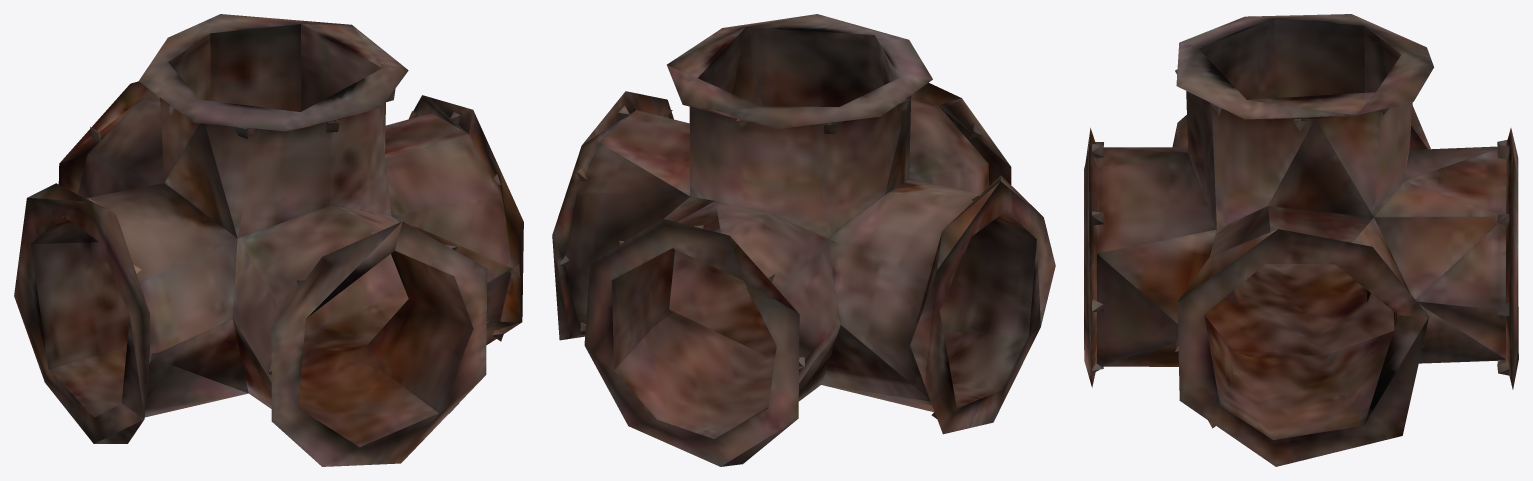
The model's file is rusty_pipe_13.glb.
The picture shows the model from 3 angles, left to right: view 1: azimuth 30°, elevation 25°; view 2: azimuth 150°, elevation 25°; view 3: azimuth 270°, elevation 25°; orthographic projection.
Visible parts, largest first — view 1: rusty_pipe_13; view 2: rusty_pipe_13; view 3: rusty_pipe_13.
Part boxes in pixels (x1,y1,x2,y2): rusty_pipe_13: (14, 14, 523, 466); rusty_pipe_13: (552, 14, 1055, 466); rusty_pipe_13: (1084, 14, 1518, 466).
Size of what is drawn, in the model's own units: 0.0482 by 0.0387 by 0.0478.
Materials: 1 (1 with a texture image).
